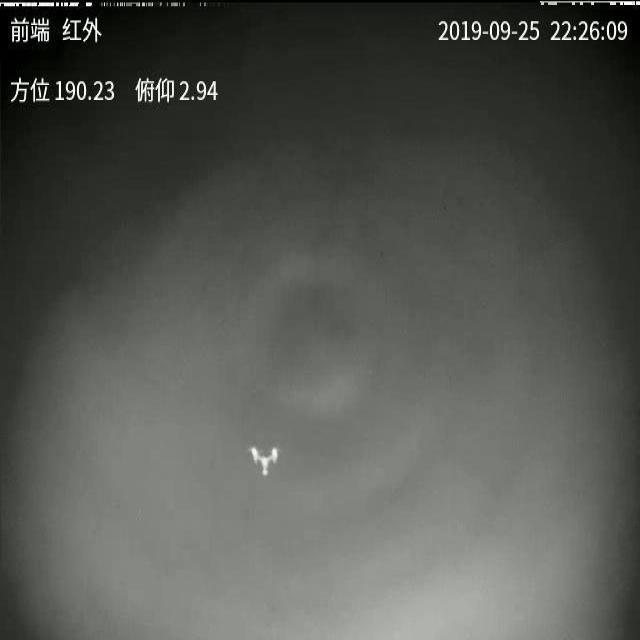drone: (248, 444, 281, 480)
